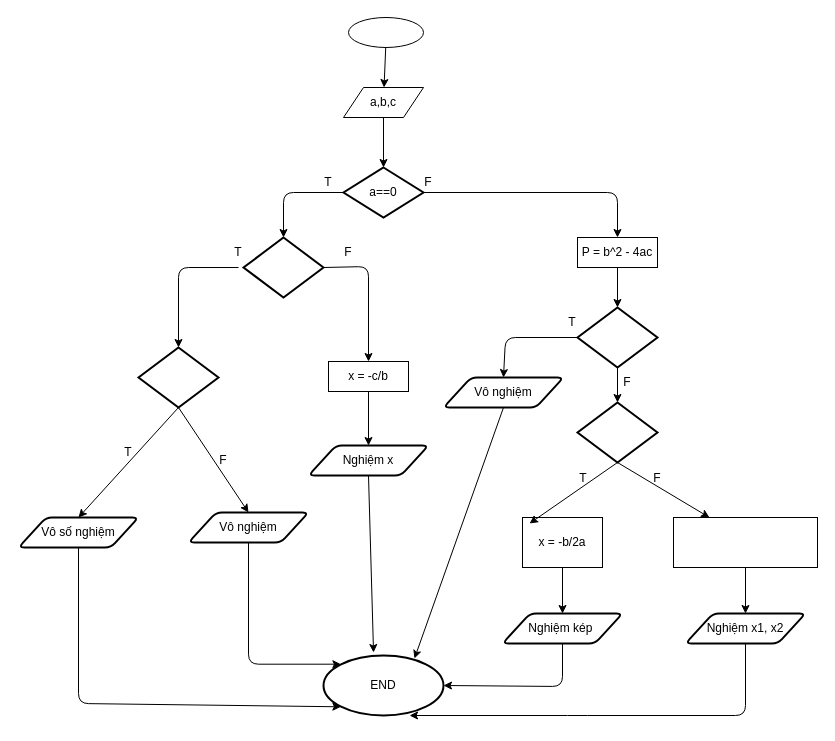
The diagram is 835 pixels wide and 741 high, and some of its shapes have lost their labels. The shapes that lost their labels are listed below. From the top down, each one's centre as x and y in pixels, then its label:
At pixel 386 32: "START".
At pixel 283 267: "b==0".
At pixel 617 337: "P<0".
At pixel 178 377: "c==0".
At pixel 617 432: "P==0".
At pixel 745 542: "x1 = (-b + sqrt P)/(2a) x2 = (-b - sqrt P)/(2a)".
